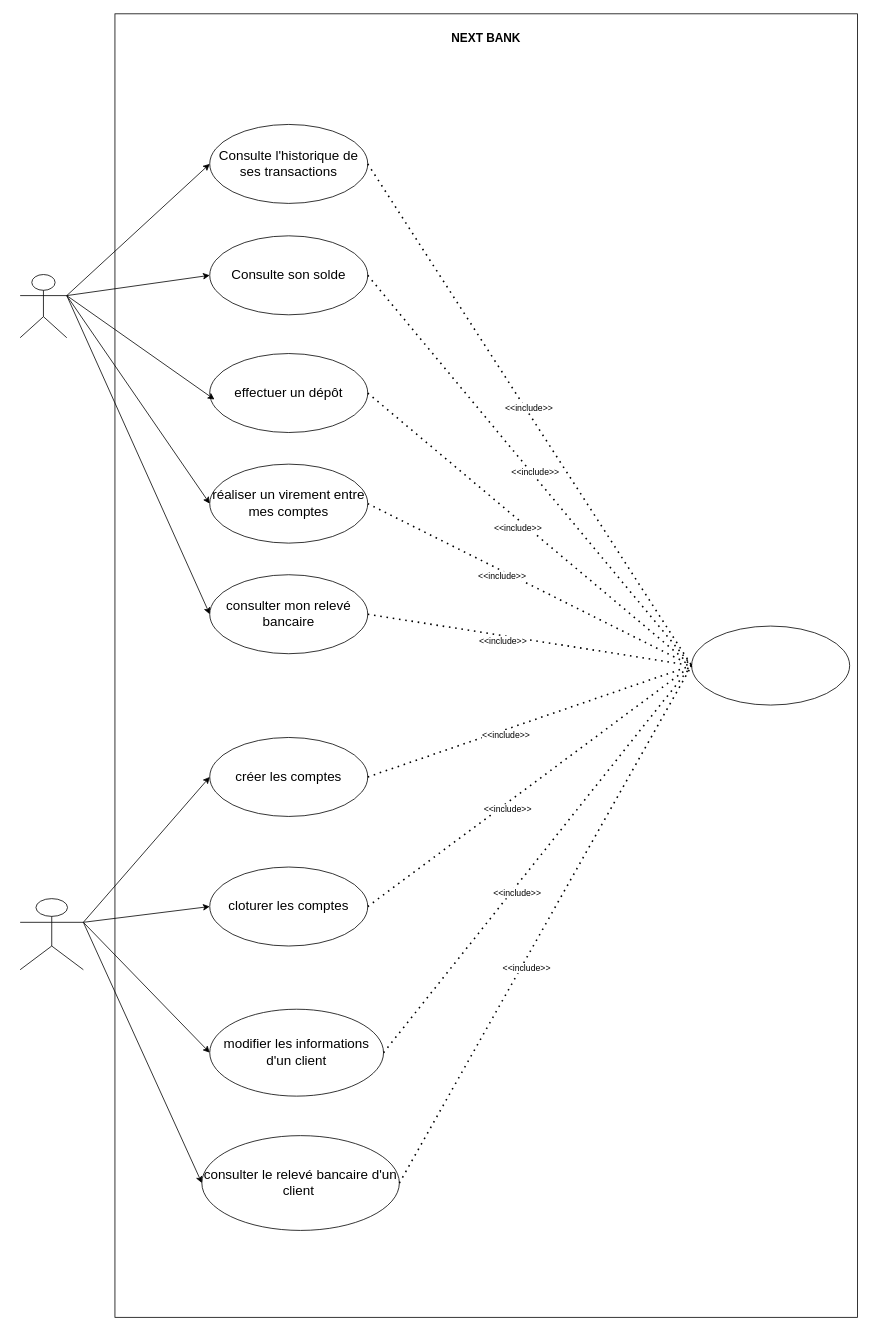
This 871x1331 diagram has some shape labels left out. Here are the shapes that lost their labels. From the top down, the centre of each, then its label:
point (43, 306): Client
point (770, 665): Se connecter
point (51, 934): Gestionnaire
